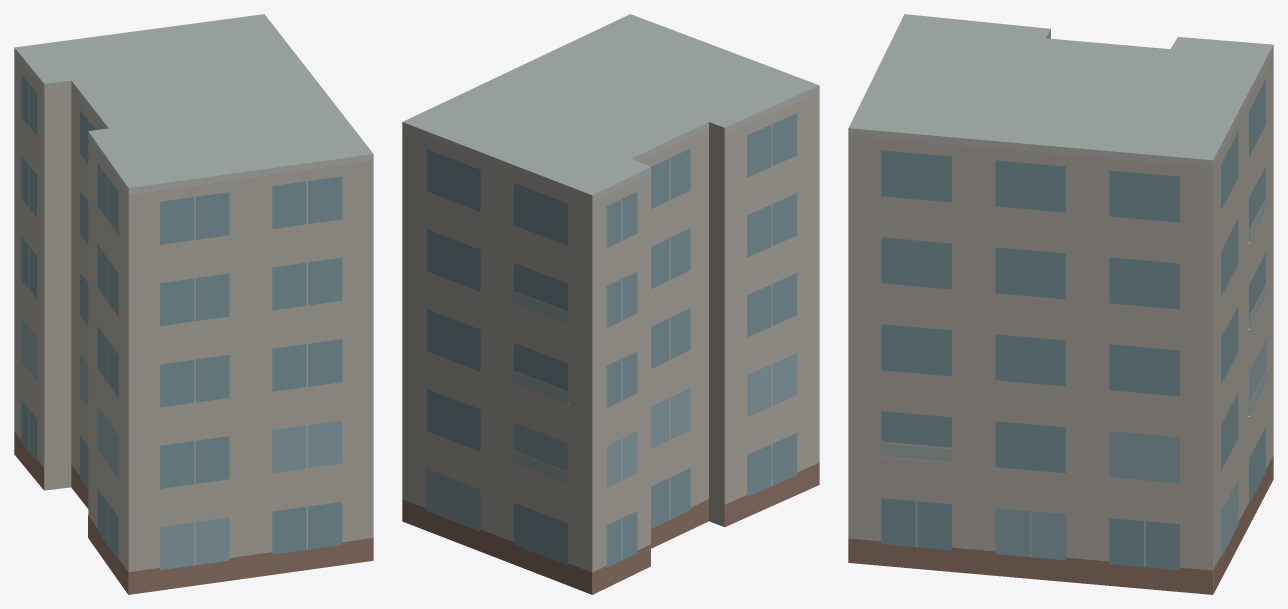
File: survey-upis-32931581.glb
The picture shows the model from 3 angles, left to right: view 1: azimuth 30°, elevation 25°; view 2: azimuth 150°, elevation 25°; view 3: azimuth 270°, elevation 25°; orthographic projection. The views are drawn at different scales.
Visible parts, largest first — view 1: survey-upis-32931581.tmp; view 2: survey-upis-32931581.tmp; view 3: survey-upis-32931581.tmp.
Part boxes in pixels (x1,y1,x2,y2): survey-upis-32931581.tmp: [14, 14, 373, 594]; survey-upis-32931581.tmp: [402, 14, 819, 594]; survey-upis-32931581.tmp: [848, 14, 1273, 594].
Size of the model in its own units: 10.62 by 14.7 by 13.04.
